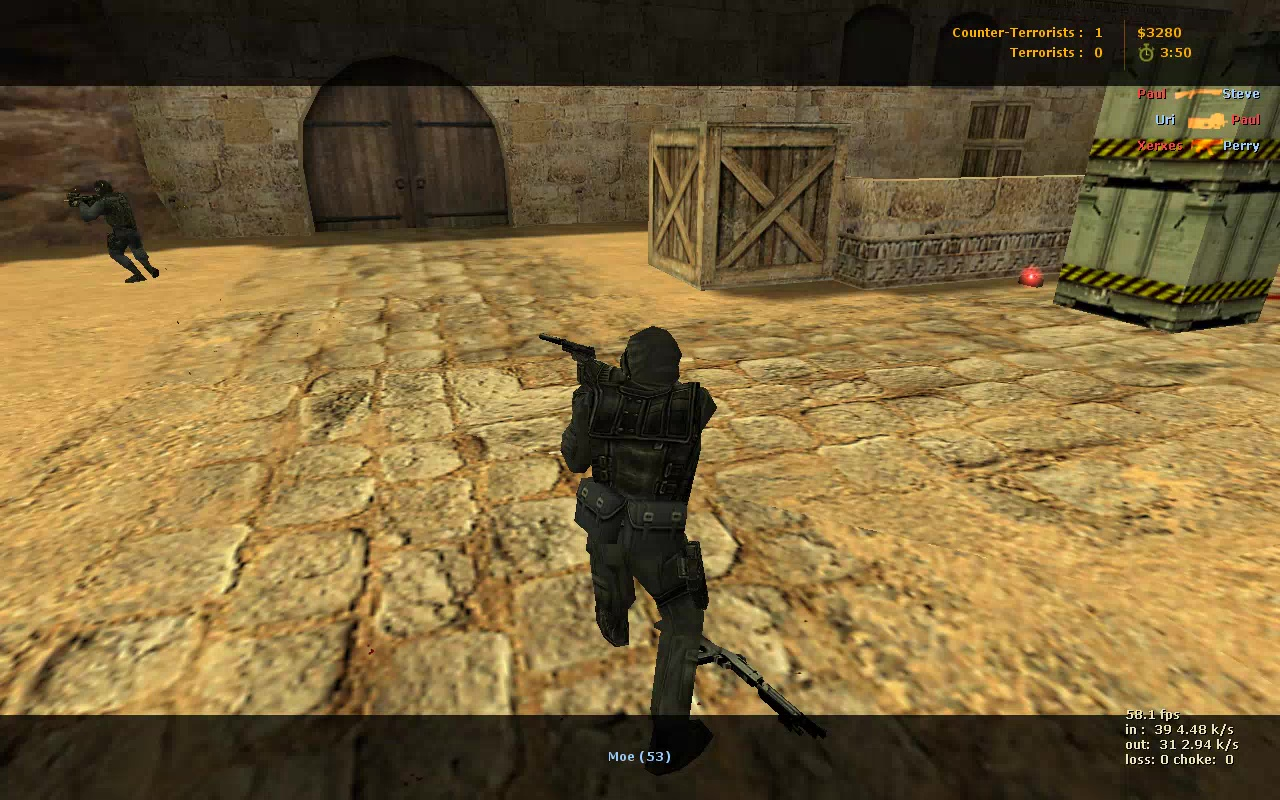ct: (556, 322, 749, 763), (77, 179, 164, 285)
